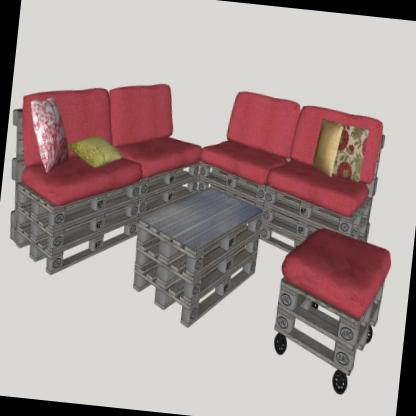BoxFace: (134, 182, 261, 280), (131, 249, 259, 329), (279, 280, 386, 350), (13, 216, 138, 275)
